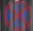No Stopping: (2, 0, 32, 28)
